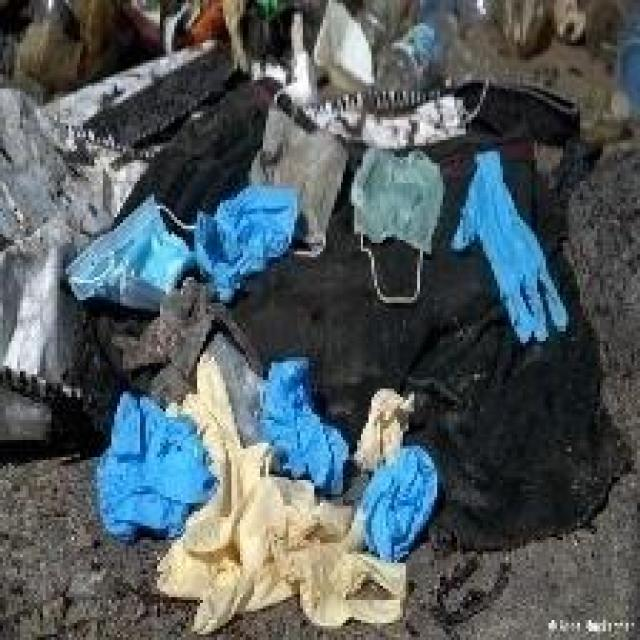Glove: (57, 414, 503, 640), (442, 159, 587, 355), (198, 184, 302, 291)
Mask: (335, 124, 442, 322), (54, 194, 204, 312)
